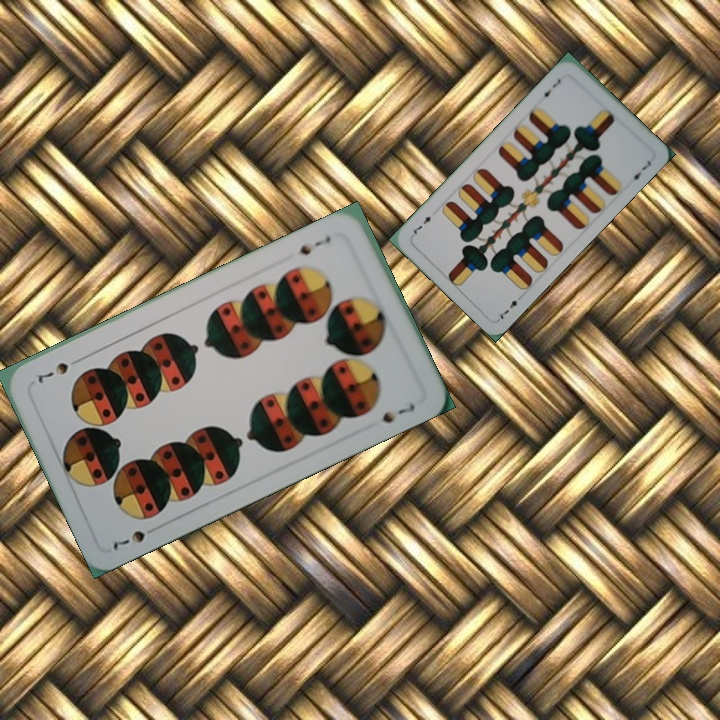E7: (494, 290, 526, 322), (536, 75, 564, 101)
S7: (108, 526, 148, 554), (295, 230, 334, 258)
